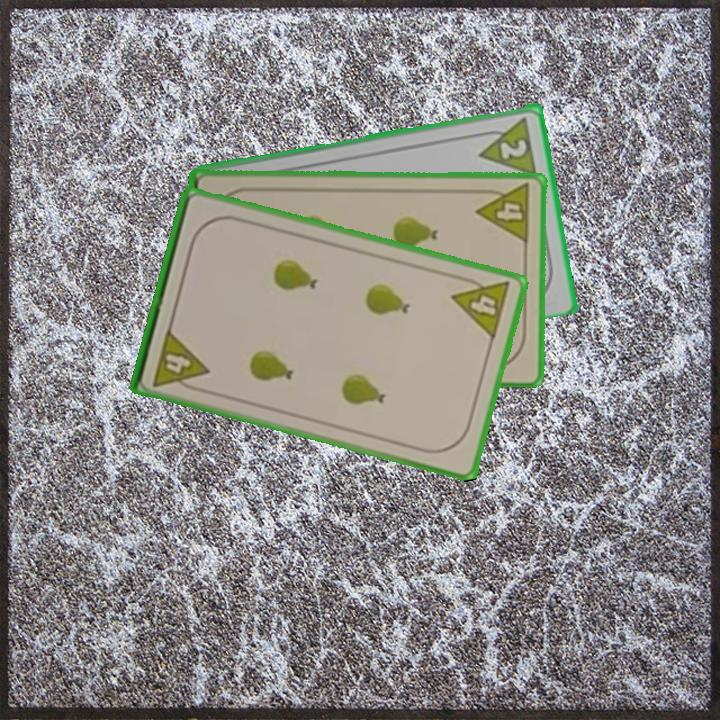2p: (473, 112, 540, 178)
4p: (448, 271, 514, 342), (150, 325, 212, 395), (473, 180, 534, 245)
